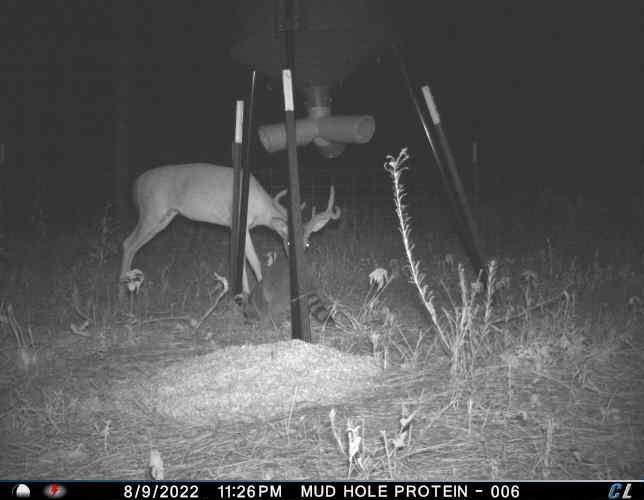Deer: (115, 159, 346, 307)
Raccoon: (230, 250, 346, 333)
